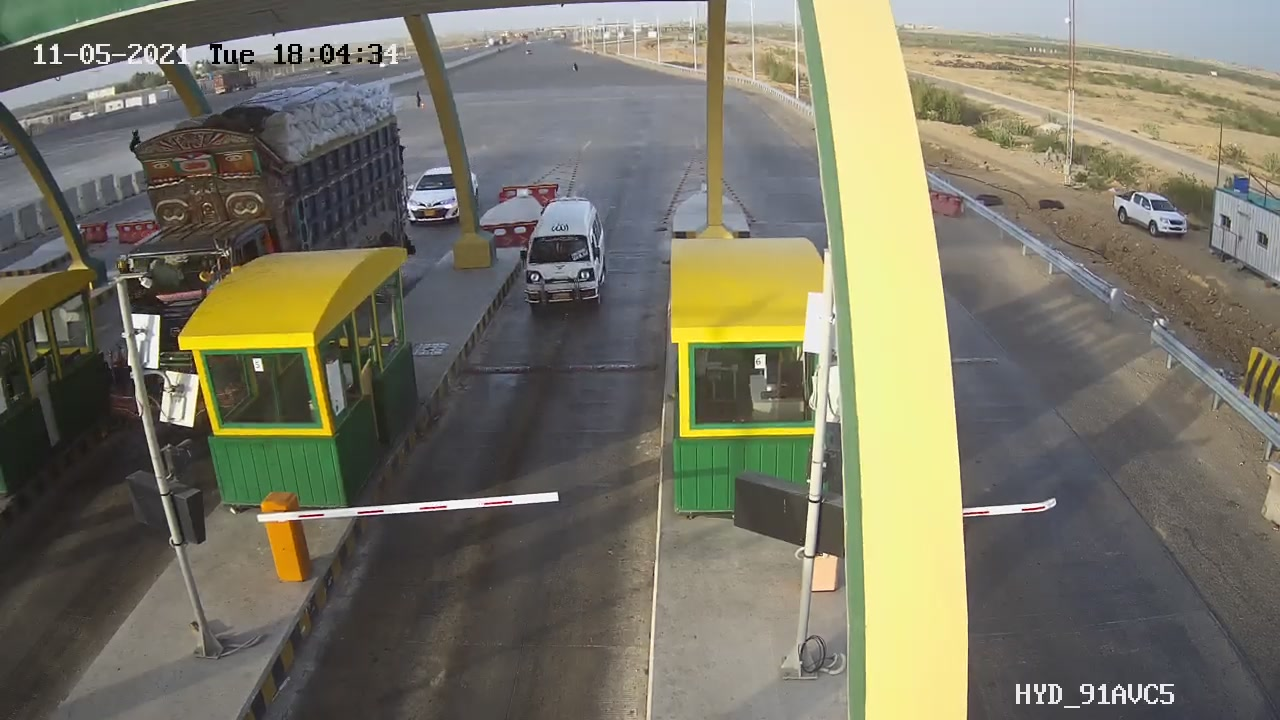F1: (501, 175, 627, 339)
